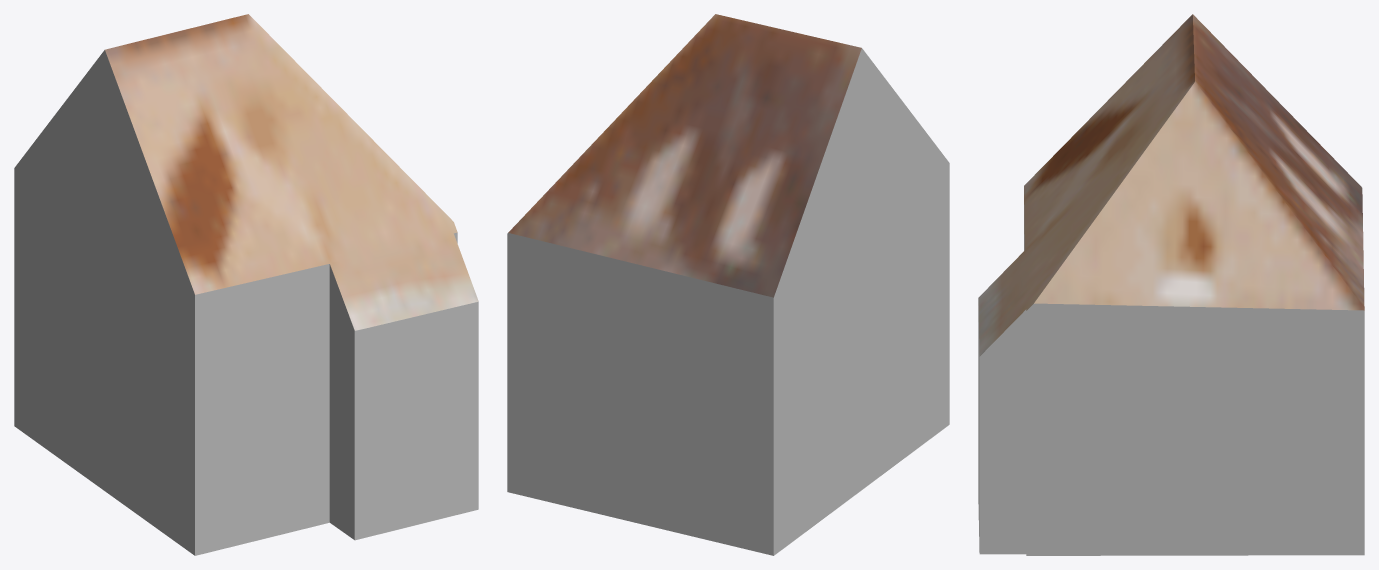
Rendered from DEBW_0010007Txe8.gltf.
3 renders of one model, left to right at view 1: azimuth 30°, elevation 25°; view 2: azimuth 150°, elevation 25°; view 3: azimuth 270°, elevation 25°, orthographic. The views are drawn at different scales.
Parts seen in each view (by area): view 1: Z_UP; view 2: Z_UP; view 3: Z_UP.
Part boxes in pixels (x1=…): Z_UP: x1=14, y1=14, x2=478, y2=555; Z_UP: x1=507, y1=14, x2=949, y2=555; Z_UP: x1=978, y1=14, x2=1364, y2=555.
Bounding box in the file's own units: 8.09 × 12.8 × 10.69.
2 materials, 1 textured.
